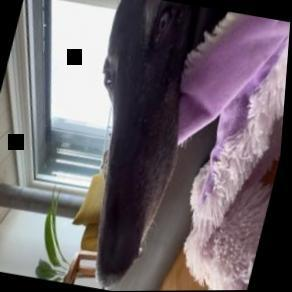nasal_discharge: (124, 239, 155, 267)
